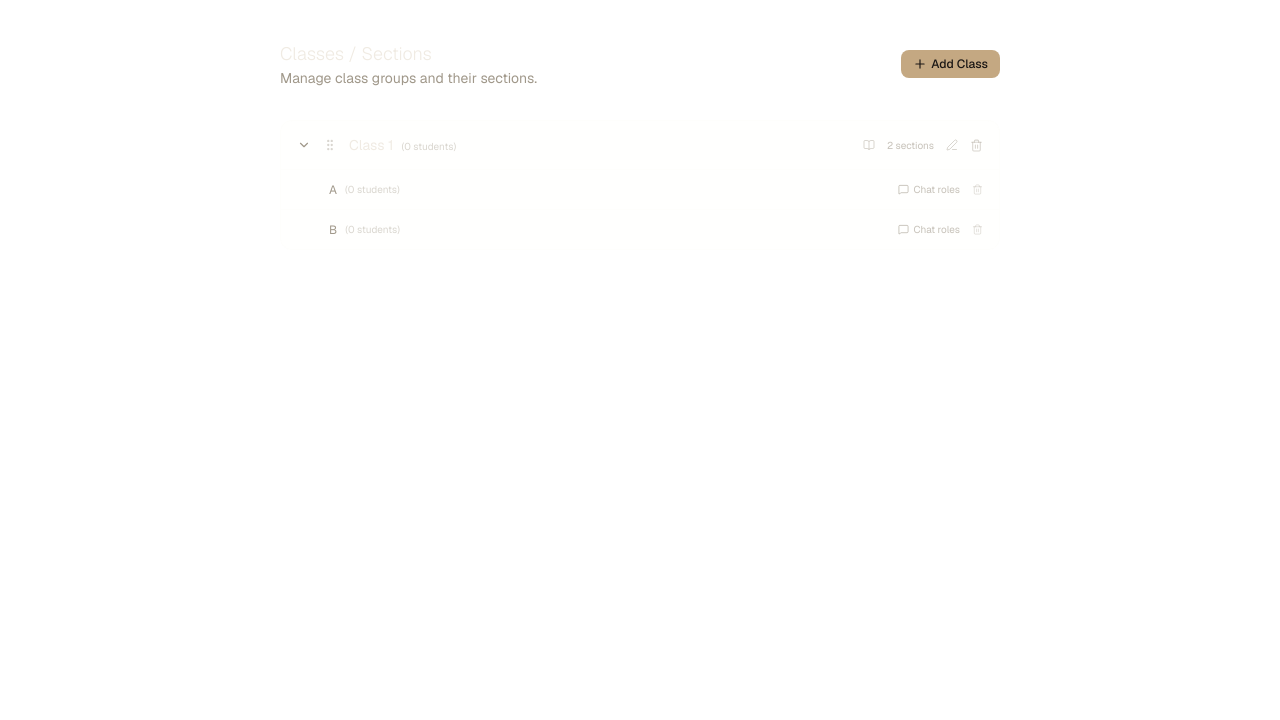
Test: ClassesPage — edit modal › opens edit modal when Edit button is clicked
Expected: the text "Class 1" is shown, [349, 136, 393, 154]
Click the button titled "Edit class": coordinates (952, 145) [942, 135, 962, 155]
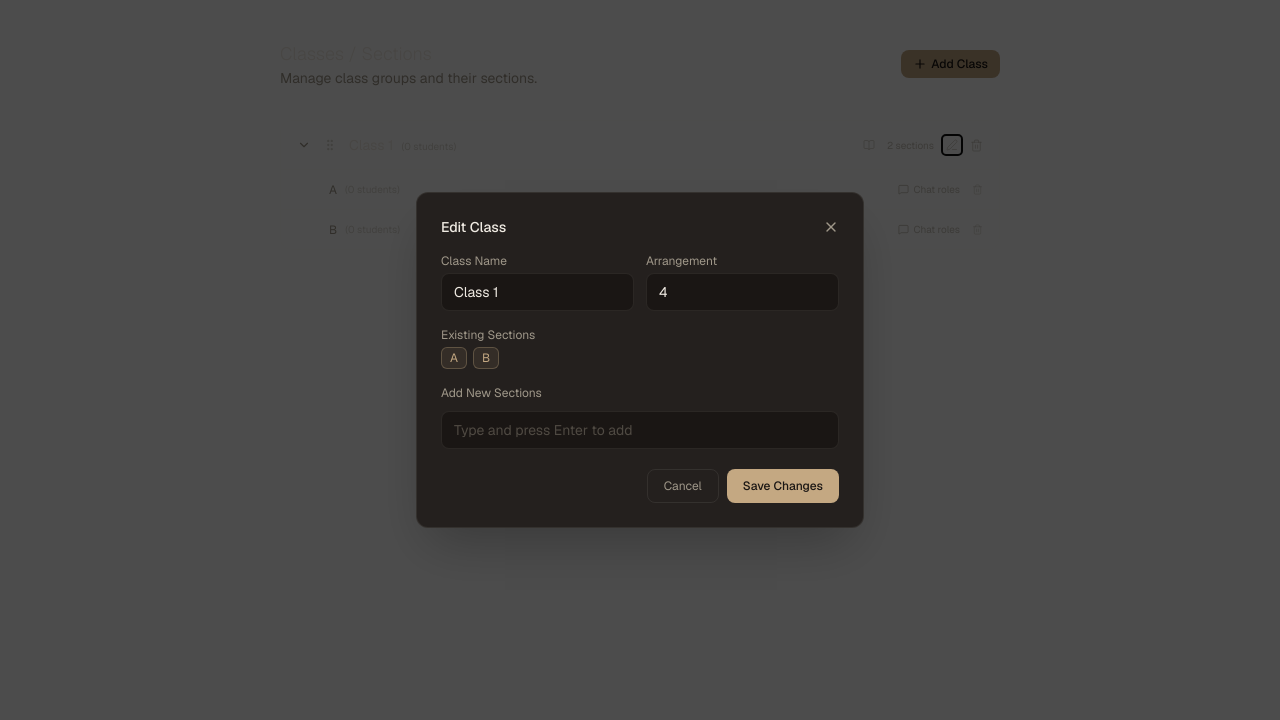
Result: the heading "Edit Class" is shown at [441, 217, 506, 237]
Result: the field showing "Class 1" is shown at [441, 273, 634, 311]
Result: the number field showing "4" is shown at [646, 273, 839, 311]
